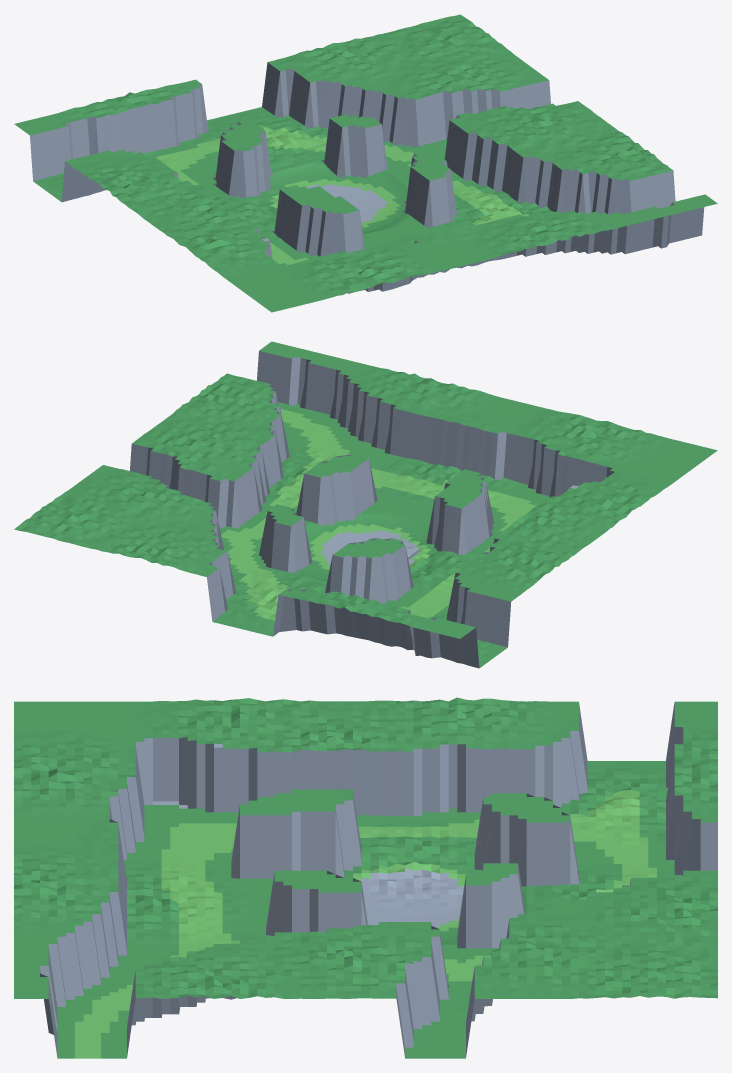
Rendered from stage3.fbx.
3 views of the same model, one above another, from view 1: azimuth 30°, elevation 25°; view 2: azimuth 150°, elevation 25°; view 3: azimuth 270°, elevation 25° (orthographic). The views are drawn at different scales.
Visible parts, largest first — view 1: stage3; view 2: stage3; view 3: stage3.
Boxes of the visible parts, x1=… form: stage3: x1=14, y1=14, x2=717, y2=312; stage3: x1=14, y1=341, x2=717, y2=668; stage3: x1=14, y1=697, x2=717, y2=1058.
Size of the model in its own units: 16000 by 1811 by 16000.
